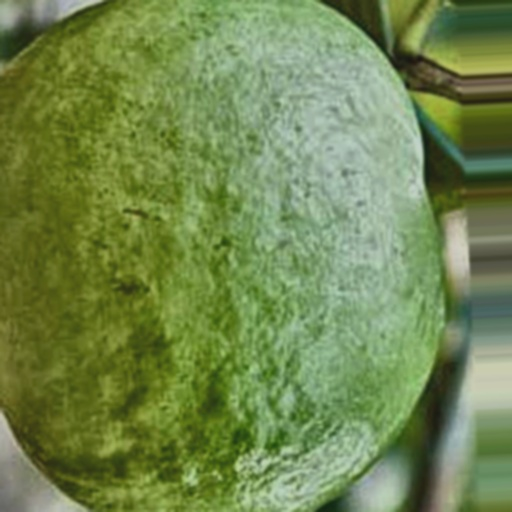guava: (102, 0, 478, 457)
